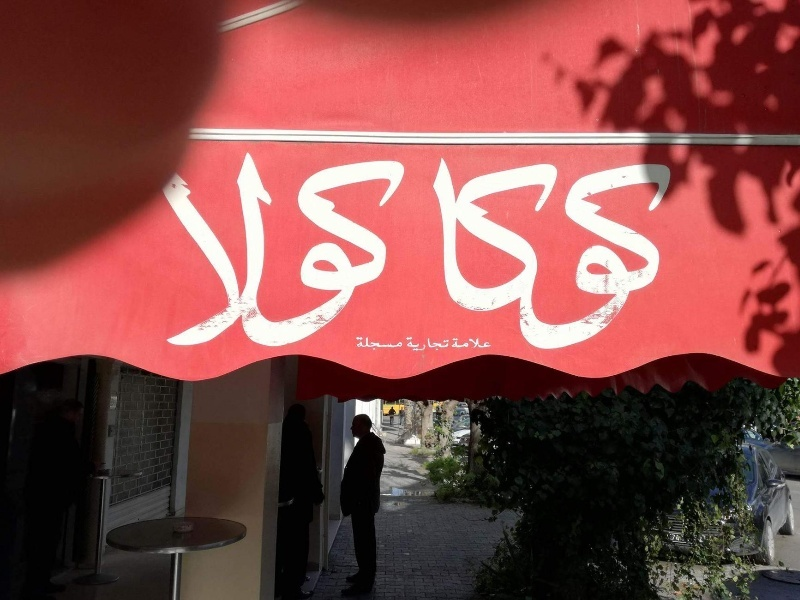text: (657, 154, 673, 354), (433, 154, 448, 354), (449, 154, 464, 354), (465, 154, 480, 354), (481, 154, 496, 354), (497, 154, 512, 354), (513, 154, 528, 354), (529, 154, 544, 354), (545, 154, 560, 354), (561, 154, 576, 354), (577, 154, 592, 354), (593, 154, 608, 354), (609, 154, 624, 354), (625, 154, 640, 354), (641, 154, 656, 354), (161, 152, 176, 349), (177, 152, 192, 349), (193, 152, 208, 349), (209, 152, 224, 349), (225, 152, 240, 349), (241, 152, 256, 349), (257, 152, 272, 349), (273, 152, 288, 349), (289, 152, 304, 349), (305, 152, 320, 349), (321, 152, 336, 349), (337, 152, 352, 349), (353, 152, 368, 349), (369, 152, 384, 349), (385, 152, 400, 349), (401, 152, 408, 349), (156, 152, 160, 349), (369, 335, 384, 352), (385, 335, 400, 352), (417, 337, 432, 351), (433, 337, 448, 351), (356, 335, 368, 352), (431, 154, 432, 354), (465, 338, 480, 349), (406, 337, 416, 351), (453, 338, 464, 349), (481, 338, 492, 349), (401, 335, 403, 352), (449, 337, 450, 351)
